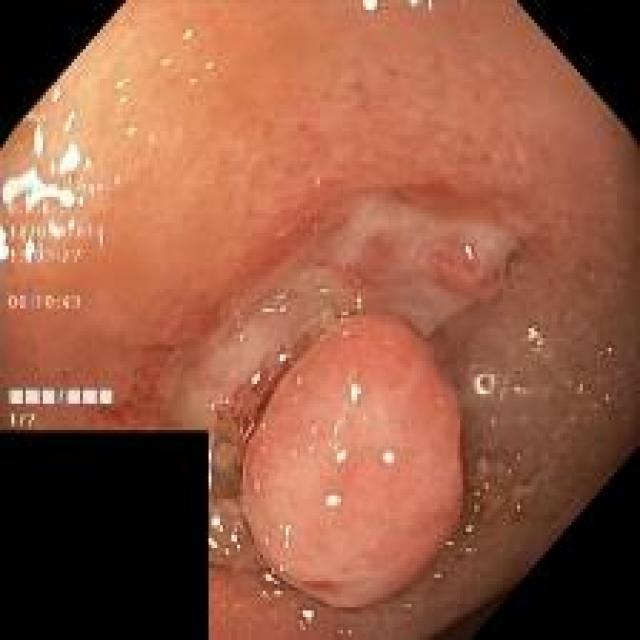Polyps: (242, 314, 462, 610)
